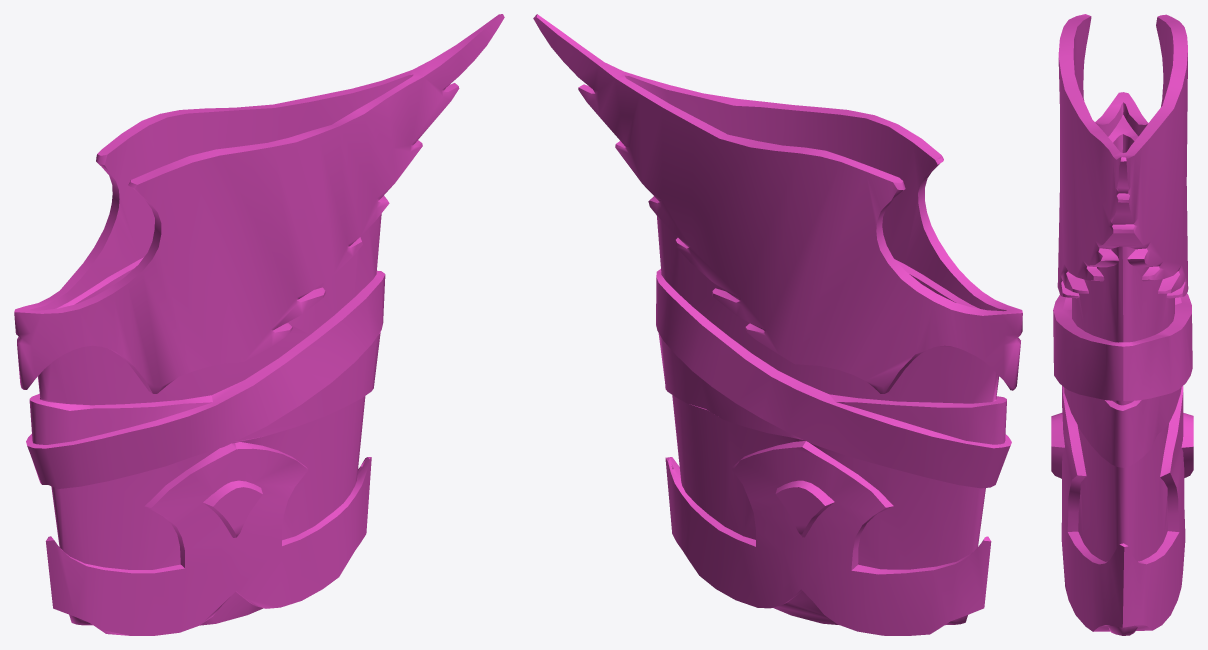
The model's file is SM_Rune_Quiver_1.fbx.
3 renders of one model, left to right at view 1: azimuth 30°, elevation 25°; view 2: azimuth 150°, elevation 25°; view 3: azimuth 270°, elevation 25°, orthographic. The views are drawn at different scales.
Visible parts, largest first — view 1: SM_Rune_Quiver_1; view 2: SM_Rune_Quiver_1; view 3: SM_Rune_Quiver_1.
Part boxes in pixels (x1,y1,x2,y2): SM_Rune_Quiver_1: (14, 14, 504, 635); SM_Rune_Quiver_1: (533, 14, 1022, 635); SM_Rune_Quiver_1: (1051, 14, 1193, 635).
Size of the model in its own units: 0.3504 by 0.3557 by 0.079.
